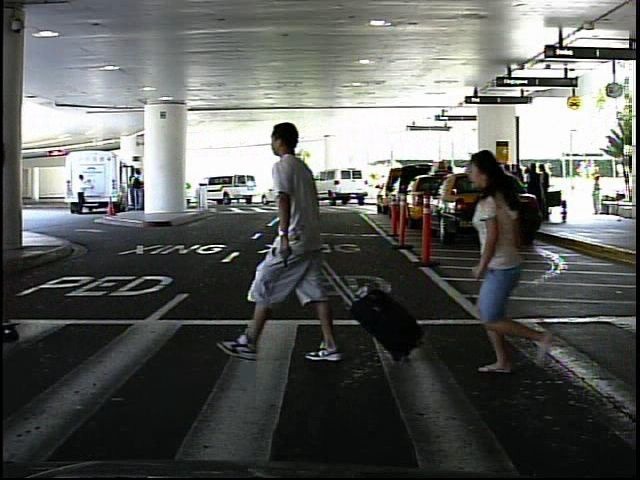person: (244, 106, 362, 373), (471, 129, 582, 385), (588, 172, 607, 218), (72, 172, 90, 216)
